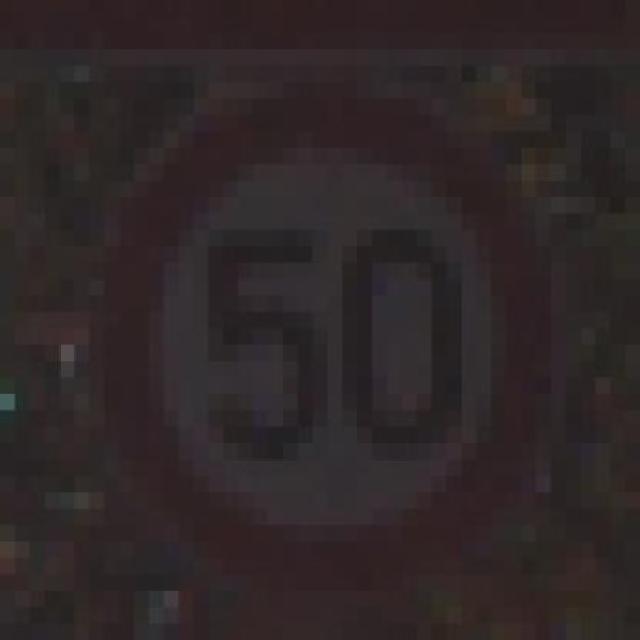50 mph speed limit: (71, 58, 577, 584)
